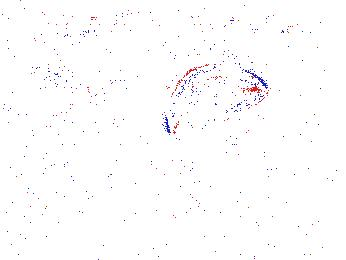moon jellyfish: (94, 39, 183, 126), (166, 63, 269, 135), (47, 32, 124, 89), (247, 48, 332, 89)
